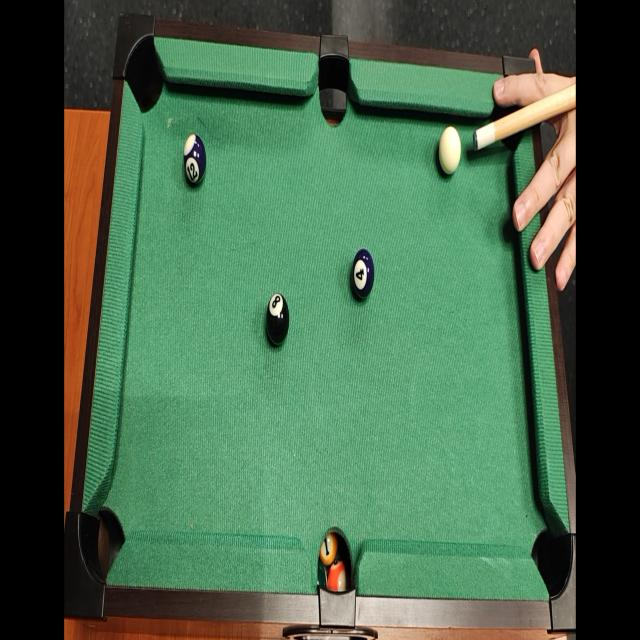cue ball: (439, 120, 462, 175)
other: (182, 132, 208, 190), (266, 291, 290, 347), (350, 248, 374, 300)
